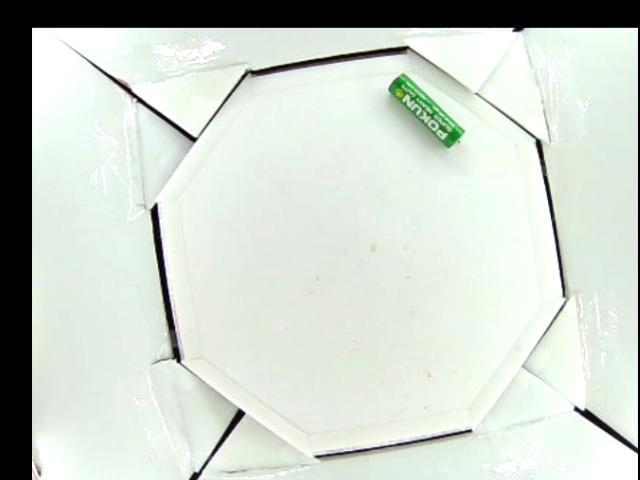Battery: (385, 72, 466, 148)
